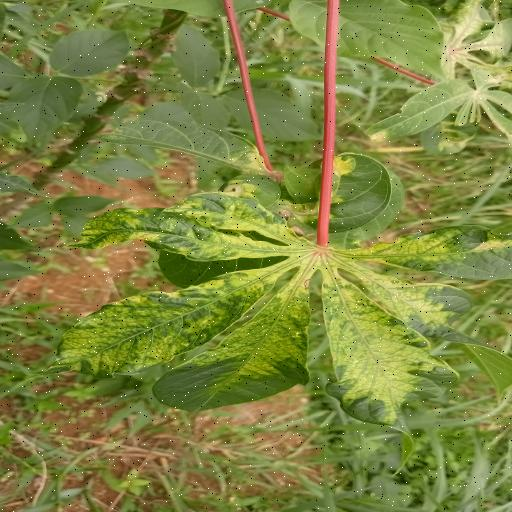Cassava_Mosaic: (53, 196, 512, 425)
